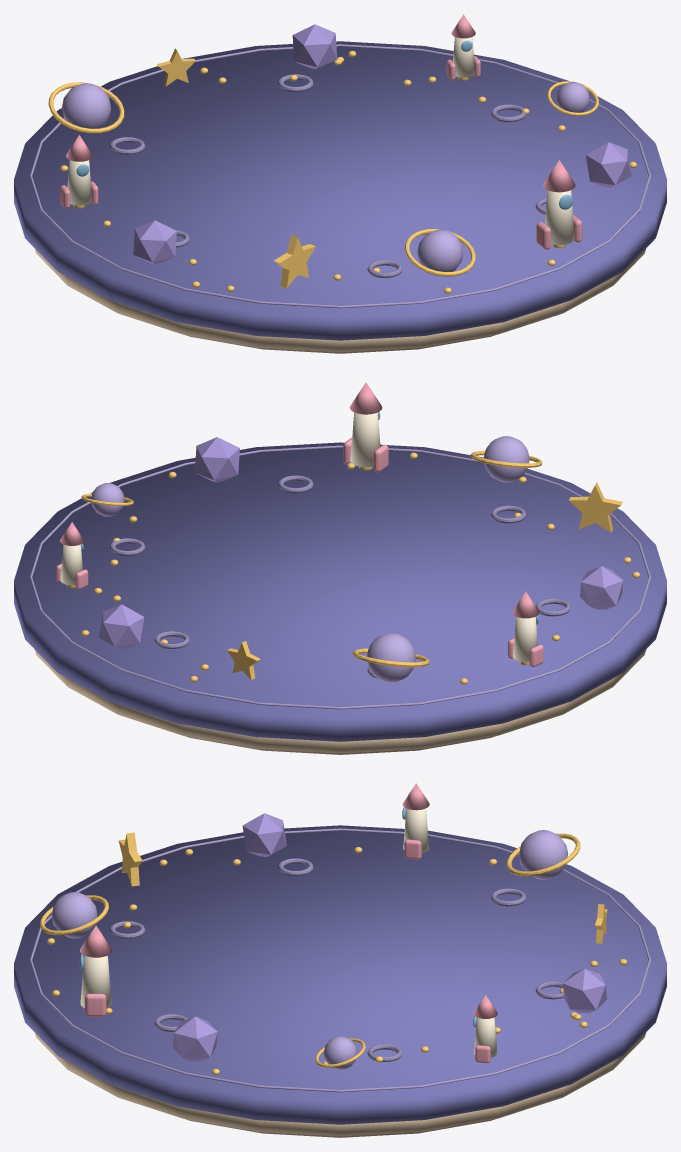
File: world.glb
3 renders of one model, top to bottom at view 1: azimuth 30°, elevation 25°; view 2: azimuth 150°, elevation 25°; view 3: azimuth 270°, elevation 25°, orthographic.
Parts seen in each view (by area): view 1: Cone, Cone.001, Torus.064, planet.002, rocket.003, planet.003, rocket.002, gem.001, gem.003, gem.002, rocket.001, planet.001 (+3 smaller); view 2: Cone, Cone.001, Torus.064, rocket.003, planet.002, planet.003, rocket.002, gem.003, gem.001, gem.002, rocket.001, star.002 (+3 smaller); view 3: Cone, Cone.001, Torus.064, planet.002, rocket.003, planet.003, rocket.002, gem.003, gem.001, gem.002, rocket.001, planet.001 (+2 smaller).
Part boxes in pixels (x1=…): Cone: x1=14, y1=41, x2=666, y2=340; Cone.001: x1=34, y1=248, x2=646, y2=352; Torus.064: x1=30, y1=44, x2=650, y2=308; planet.002: x1=48, y1=82, x2=124, y2=133; rocket.003: x1=536, y1=160, x2=582, y2=249; planet.003: x1=405, y1=229, x2=475, y2=276; rocket.002: x1=60, y1=135, x2=98, y2=208; gem.001: x1=292, y1=24, x2=337, y2=69; gem.003: x1=586, y1=142, x2=631, y2=187; gem.002: x1=133, y1=220, x2=176, y2=264; rocket.001: x1=446, y1=14, x2=480, y2=80; planet.001: x1=547, y1=81, x2=598, y2=115; Cone: x1=14, y1=442, x2=666, y2=741; Cone.001: x1=35, y1=650, x2=645, y2=753; Torus.064: x1=30, y1=445, x2=650, y2=709; rocket.003: x1=343, y1=382, x2=388, y2=472; planet.002: x1=353, y1=633, x2=429, y2=682; planet.003: x1=471, y1=436, x2=542, y2=482; rocket.002: x1=508, y1=591, x2=543, y2=666; gem.003: x1=194, y1=437, x2=239, y2=482; gem.001: x1=99, y1=604, x2=144, y2=649; gem.002: x1=580, y1=566, x2=623, y2=609; rocket.001: x1=56, y1=522, x2=88, y2=589; star.002: x1=569, y1=482, x2=622, y2=532; Cone: x1=14, y1=825, x2=666, y2=1124; Cone.001: x1=34, y1=1032, x2=646, y2=1136; Torus.064: x1=30, y1=828, x2=650, y2=1092; planet.002: x1=506, y1=830, x2=580, y2=879; rocket.003: x1=79, y1=925, x2=112, y2=1016; planet.003: x1=40, y1=892, x2=108, y2=938; rocket.002: x1=402, y1=783, x2=429, y2=859; gem.003: x1=172, y1=1016, x2=217, y2=1061; gem.001: x1=562, y1=968, x2=606, y2=1013; gem.002: x1=242, y1=813, x2=286, y2=857; rocket.001: x1=473, y1=995, x2=497, y2=1063; planet.001: x1=315, y1=1036, x2=365, y2=1069.
Size of the model in its own units: 9.6 by 2.16 by 9.6.
